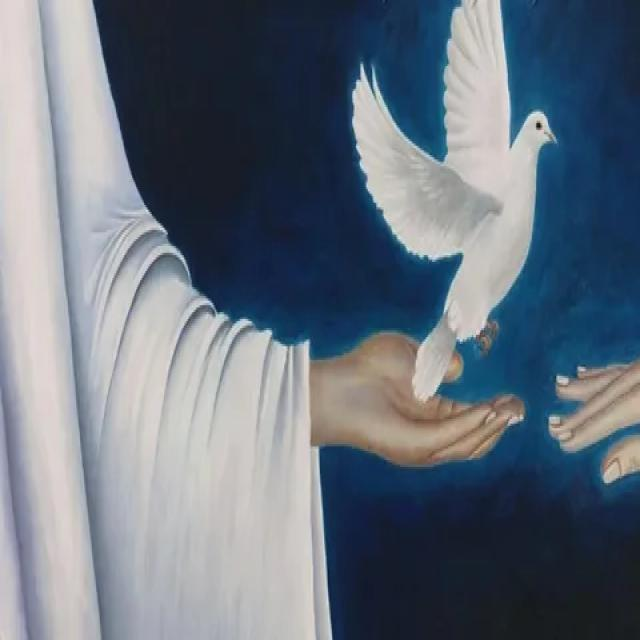pigeon: (345, 0, 564, 403)
